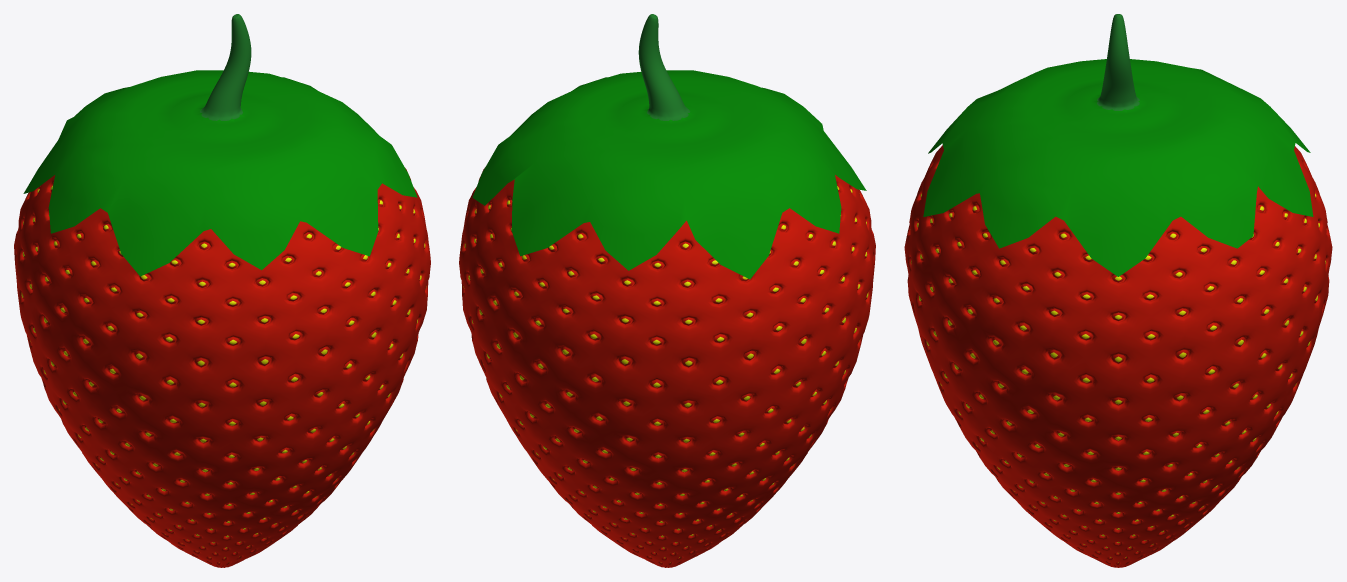
The model's file is çilek2.fbx.
3 renders of one model, left to right at view 1: azimuth 30°, elevation 25°; view 2: azimuth 150°, elevation 25°; view 3: azimuth 270°, elevation 25°, orthographic. The views are drawn at different scales.
Visible parts, largest first — view 1: pSphere1, pCylinder1; view 2: pSphere1, pCylinder1; view 3: pSphere1, pCylinder1.
Part boxes in pixels (<box>): pSphere1: <box>14,168,430,567</box>; pCylinder1: <box>23,14,417,276</box>; pSphere1: <box>459,168,875,567</box>; pCylinder1: <box>472,14,866,279</box>; pSphere1: <box>904,145,1332,567</box>; pCylinder1: <box>923,14,1313,276</box>.
Bounding box in the file's own units: 7.07 × 10.18 × 7.07.
